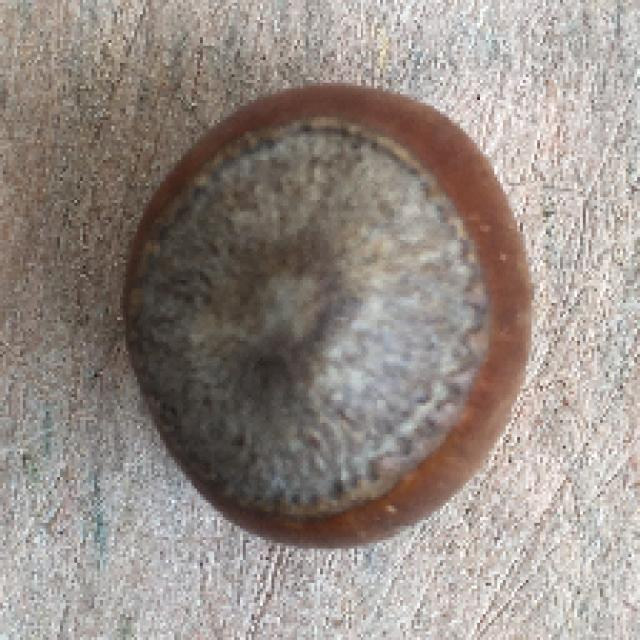qualityHazelnut: (119, 80, 535, 554)
